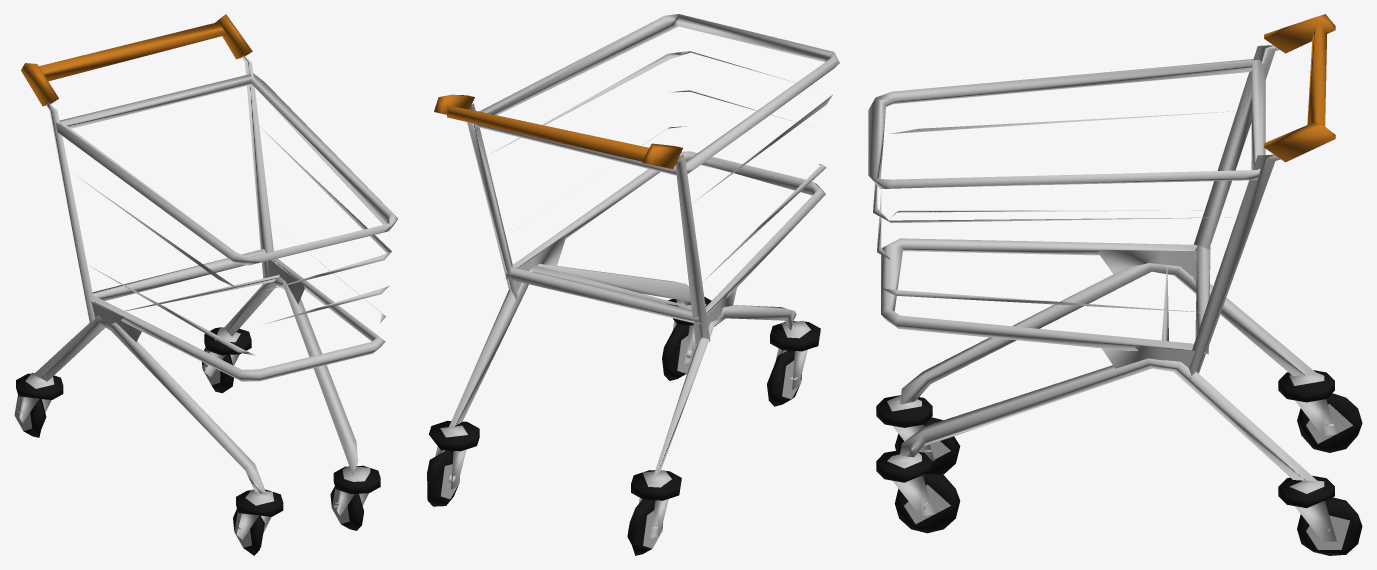
Rendered from shop-cart.lod0.glb.
The picture shows the model from 3 angles, left to right: view 1: azimuth 30°, elevation 25°; view 2: azimuth 150°, elevation 25°; view 3: azimuth 270°, elevation 25°; orthographic projection. The views are drawn at different scales.
Parts seen in each view (by area): view 1: Object_4; view 2: Object_4; view 3: Object_4.
Boxes of the visible parts, box(x1,y1,x2,y2) form: Object_4: box(14, 14, 397, 555); Object_4: box(427, 14, 839, 555); Object_4: box(868, 14, 1362, 555).
Bounding box in the file's own units: 0.5602 × 0.8765 × 0.9026.
